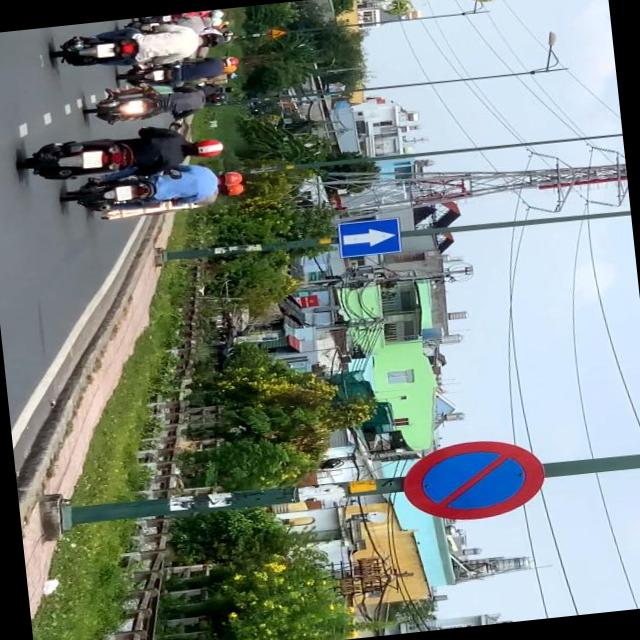I-407a: (336, 215, 400, 258)
P-131a: (401, 432, 548, 525)
